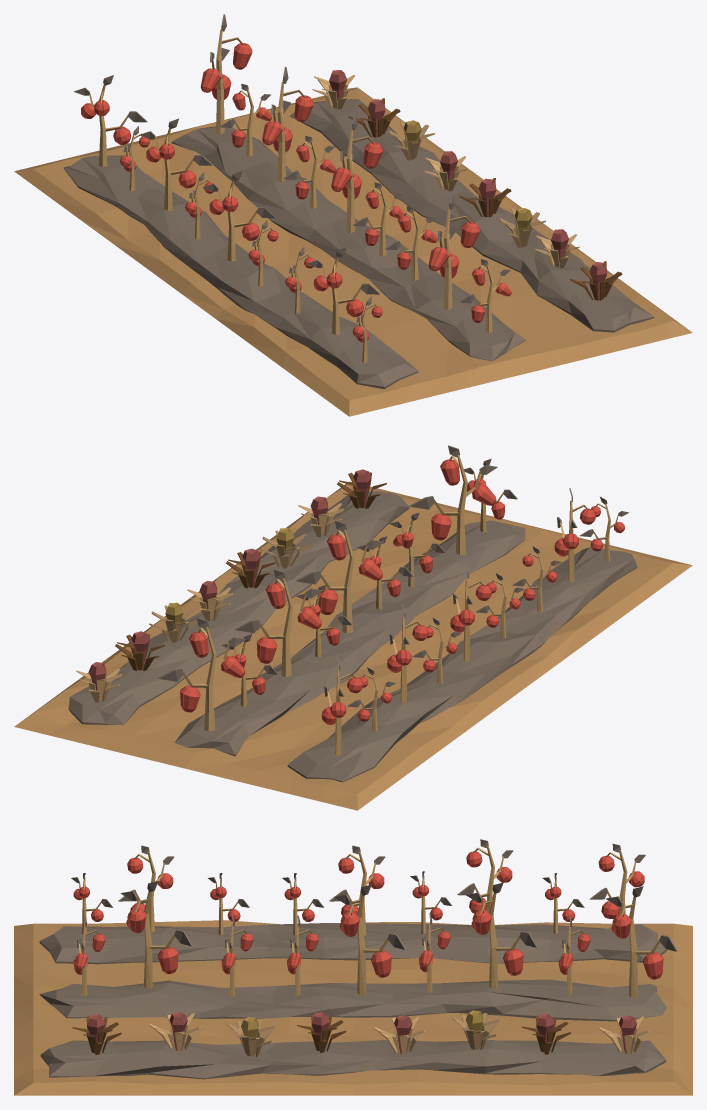
File: field_b_ready_16610.gltf
The picture shows the model from 3 angles, top to bottom: view 1: azimuth 30°, elevation 25°; view 2: azimuth 150°, elevation 25°; view 3: azimuth 270°, elevation 25°; orthographic projection.
Parts seen in each view (by area): view 1: field_b_ready002; view 2: field_b_ready002; view 3: field_b_ready002.
Boxes of the visible parts, x1=… form: field_b_ready002: x1=14, y1=14, x2=692, y2=416; field_b_ready002: x1=14, y1=445, x2=692, y2=810; field_b_ready002: x1=14, y1=839, x2=692, y2=1095.
Bounding box in the file's own units: 3.01 × 1.09 × 5.09.
Materials: 1 (1 with a texture image).
